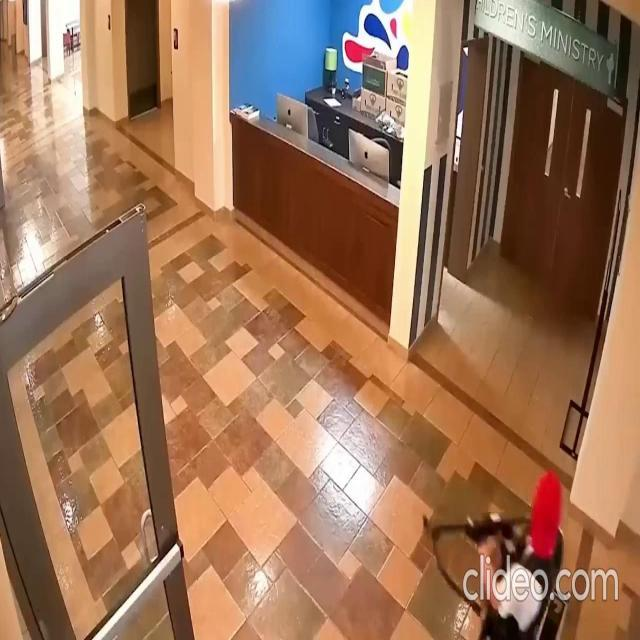pistol: (424, 506, 536, 544)
